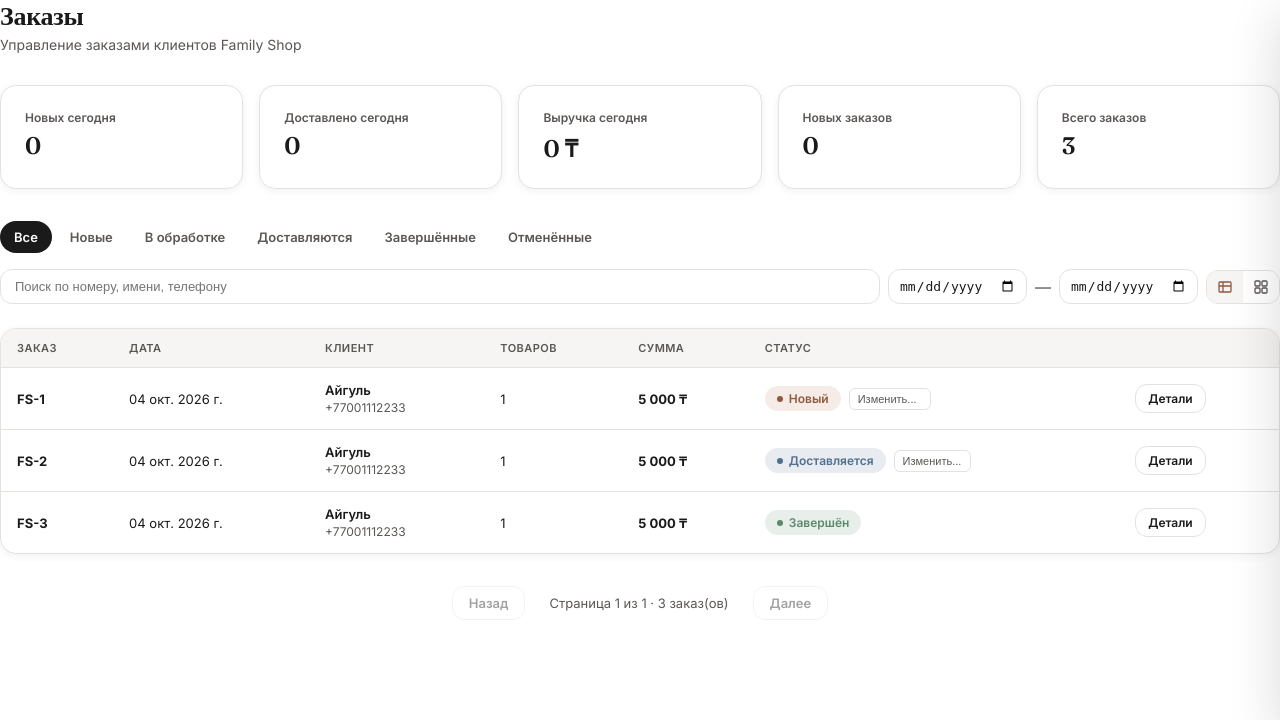
Scenario: cancelling from the admin orders page › asks first, sends nothing until confirmed, then cancels the shipped order
Step 1. Select "Отменён" in the dropdown named "Изменить статус заказа FS-2" → (932, 460), box [894,450,970,472]
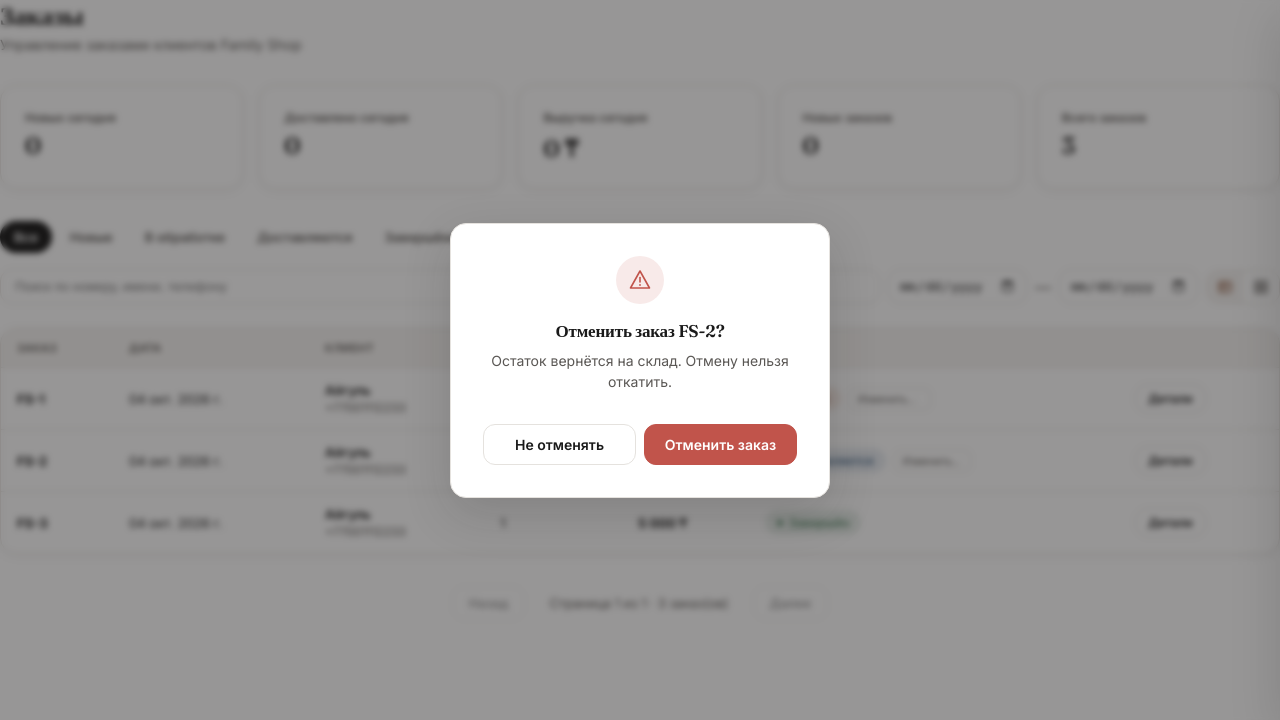
expect the text "Остаток вернётся на склад. Отмену нельзя откатить." is shown: met, box [483,350,797,392]
Step 2. Click the button "Отменить заказ" → click(720, 444), box [644,424,797,464]
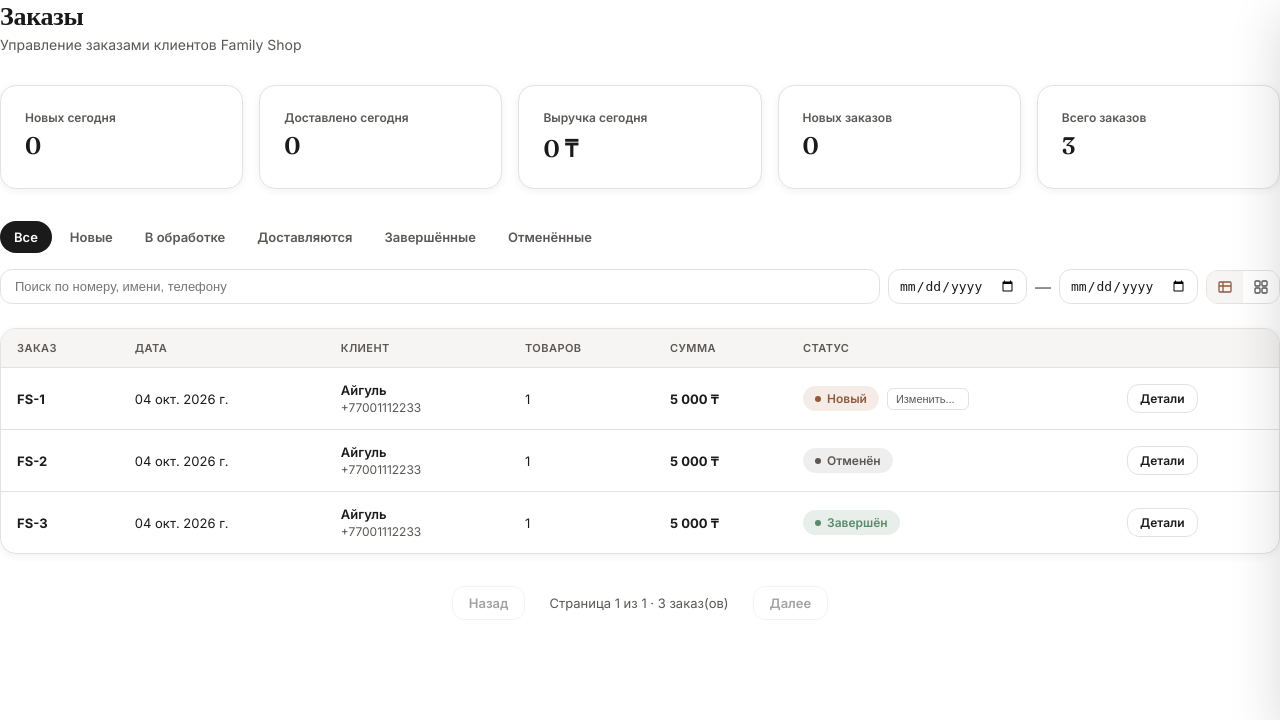
expect the dialog is gone: met
